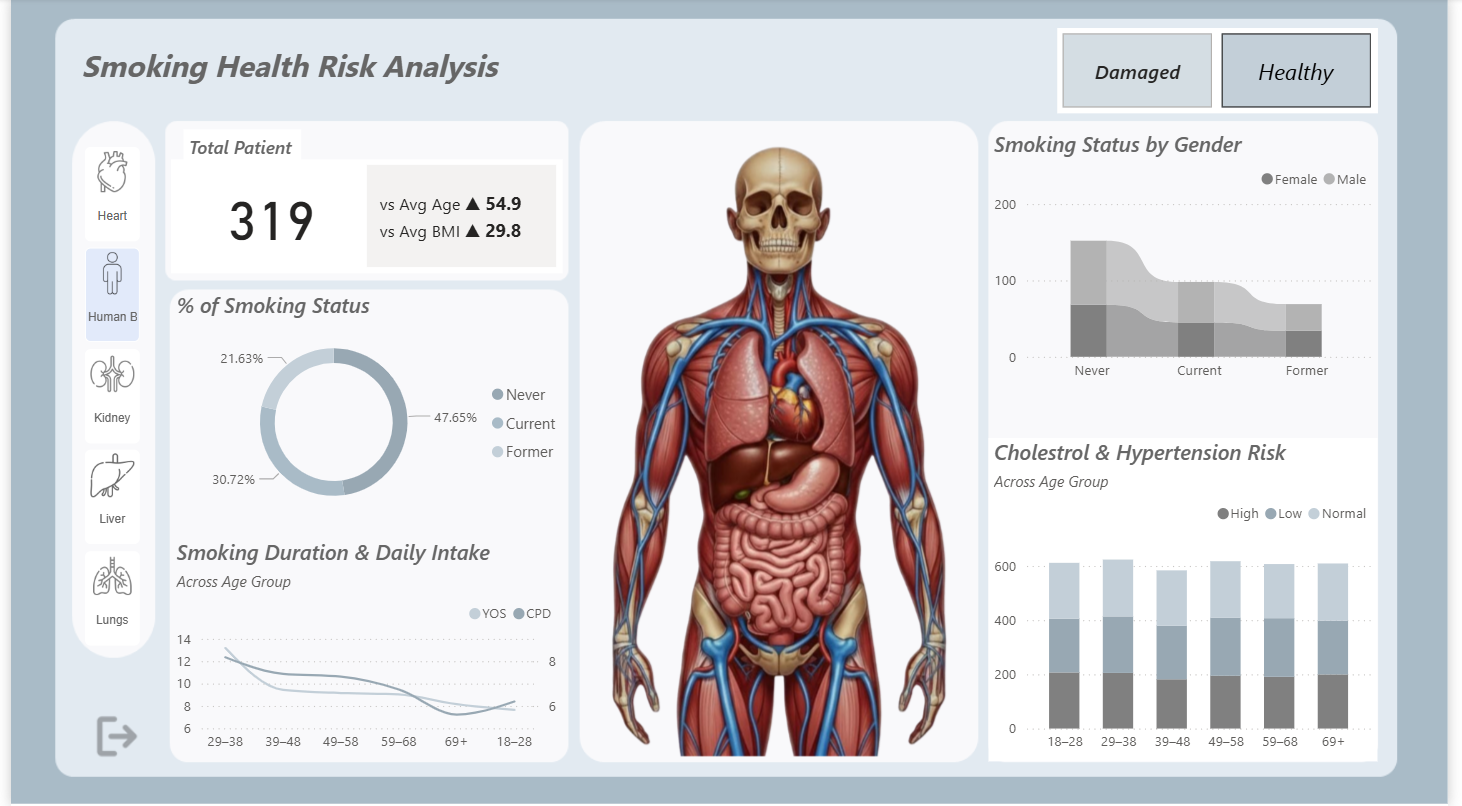

What the dashboard file says about the page in this screenshot:
{"tool":"powerbi","page":{"name":"Page 1","canvas":[1280,720],"ordinal":0},"visuals":[{"type":"cardVisual","fields":{"Data":["CountNonNull(health_dataset.Patient_ID)"]},"box":[142.4,143.6,348.7,101.3],"z":0},{"type":"textbox","box":[153.2,117,105,37.4],"z":1000},{"type":"advancedSlicerVisual","fields":{"Values":["condition.Organ_Condition"]},"box":[931.4,26.5,285.9,76],"z":2000},{"type":"ChicletSlicer1448559807354","fields":{"Category":["Organs.Organ"],"Image":["Organs.Icon_URL"]},"box":[57.9,124.3,72.4,469.3],"z":3000},{"type":"simpleImageEBC4593F96F1425FB3D84C5BF02B5075","fields":{"imageURL":["Image Dataset.Image URL"]},"box":[520,102.5,330.6,577.9],"z":4000},{"type":"donutChart","title":"% of Smoking Status","fields":{"Category":["health_dataset.Smoking_Status"],"Y":["CountNonNull(health_dataset.Smoking_Status)"]},"box":[142.4,260.6,357.1,209.9],"z":5000},{"type":"lineChart","title":"Smoking Duration & Daily Intake","fields":{"Category":["health_dataset.Age Group"],"Y":["Avg(health_dataset.Years_of_Smoking)"],"Y2":["Avg(health_dataset.Cigarettes_Per_Day)"]},"box":[142.4,481.4,348.7,199.1],"z":6000},{"type":"ribbonChart","title":"Smoking Status by Gender","fields":{"Category":["health_dataset.Smoking_Status"],"Y":["CountNonNull(health_dataset.Patient_ID)"],"Series":["health_dataset.Gender"]},"box":[871.1,117,346.2,232.8],"z":7000},{"type":"columnChart","title":"Cholestrol & Hypertension Risk","fields":{"Category":["health_dataset.Age Group"],"Y":["Avg(health_dataset.Cholesterol_Level)"],"Series":["health_dataset.BP_Risk"]},"box":[871.1,392.1,346.2,288.3],"z":8000},{"type":"textbox","box":[57.9,36.2,382.4,53.1],"z":9000}]}

Visuals, with their boxes in screenshot pixels (x1, y1, x2, y2), scaled from the page's 1280x720 canvas onto the 1462x806 screenshot:
cardVisual - CountNonNull(health_dataset.Patient_ID): region(163, 161, 561, 274)
textbox: region(175, 131, 295, 173)
advancedSlicerVisual - condition.Organ_Condition: region(1064, 30, 1390, 115)
ChicletSlicer1448559807354 - Organs.Organ x Organs.Icon_URL: region(66, 139, 149, 665)
simpleImageEBC4593F96F1425FB3D84C5BF02B5075 - Image Dataset.Image URL: region(594, 115, 972, 762)
"% of Smoking Status" donutChart: region(163, 292, 571, 527)
"Smoking Duration & Daily Intake" lineChart: region(163, 539, 561, 762)
"Smoking Status by Gender" ribbonChart: region(995, 131, 1390, 392)
"Cholestrol & Hypertension Risk" columnChart: region(995, 439, 1390, 762)
textbox: region(66, 41, 503, 100)
